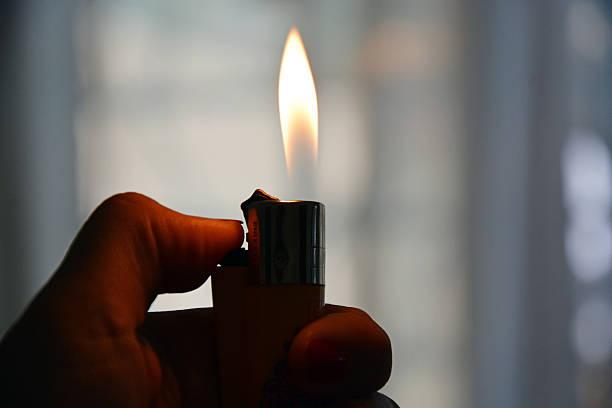Fire: (274, 26, 326, 193)
